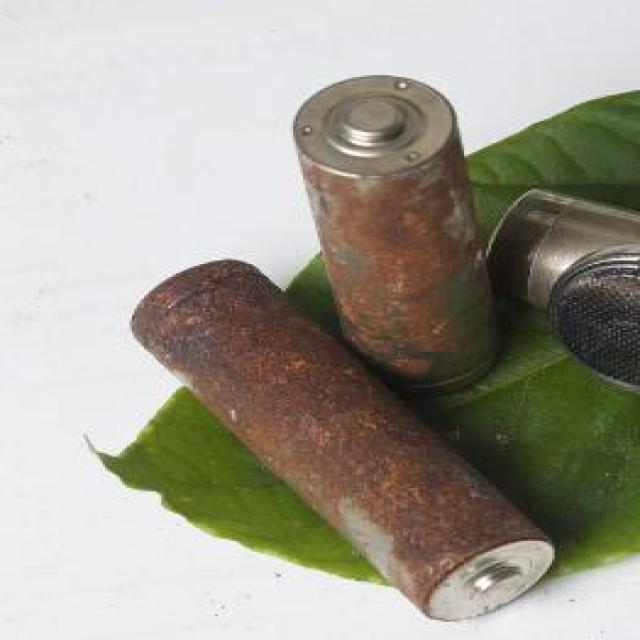-Hazardous waste - battery-: (129, 260, 556, 626), (292, 76, 504, 392), (494, 184, 640, 312)
